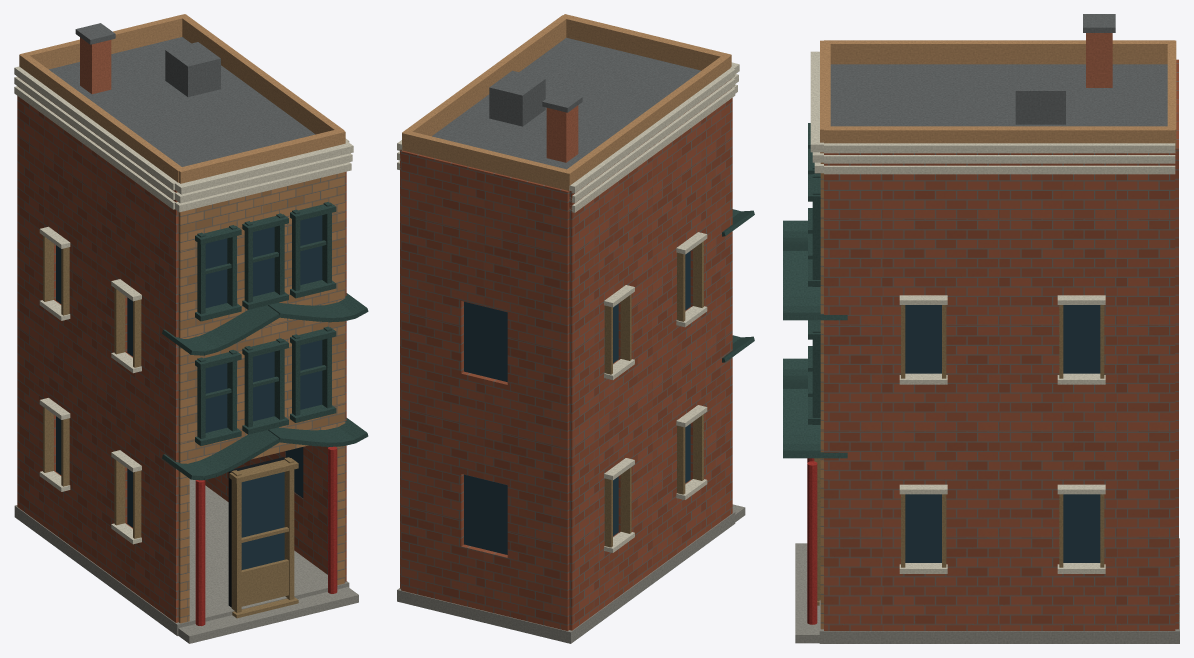
Rendered from CHINA15_lod2.glb.
3 renders of one model, left to right at view 1: azimuth 30°, elevation 25°; view 2: azimuth 150°, elevation 25°; view 3: azimuth 270°, elevation 25°, orthographic. The views are drawn at different scales.
Parts seen in each view (by area): view 1: CHINA15_LOD2; view 2: CHINA15_LOD2; view 3: CHINA15_LOD2.
Part boxes in pixels (x1,y1,x2,y2): CHINA15_LOD2: [14, 14, 368, 643]; CHINA15_LOD2: [397, 14, 754, 643]; CHINA15_LOD2: [783, 14, 1179, 643].
Size of the model in its own units: 4.11 by 10.45 by 6.78.
12 materials, 10 textured.
